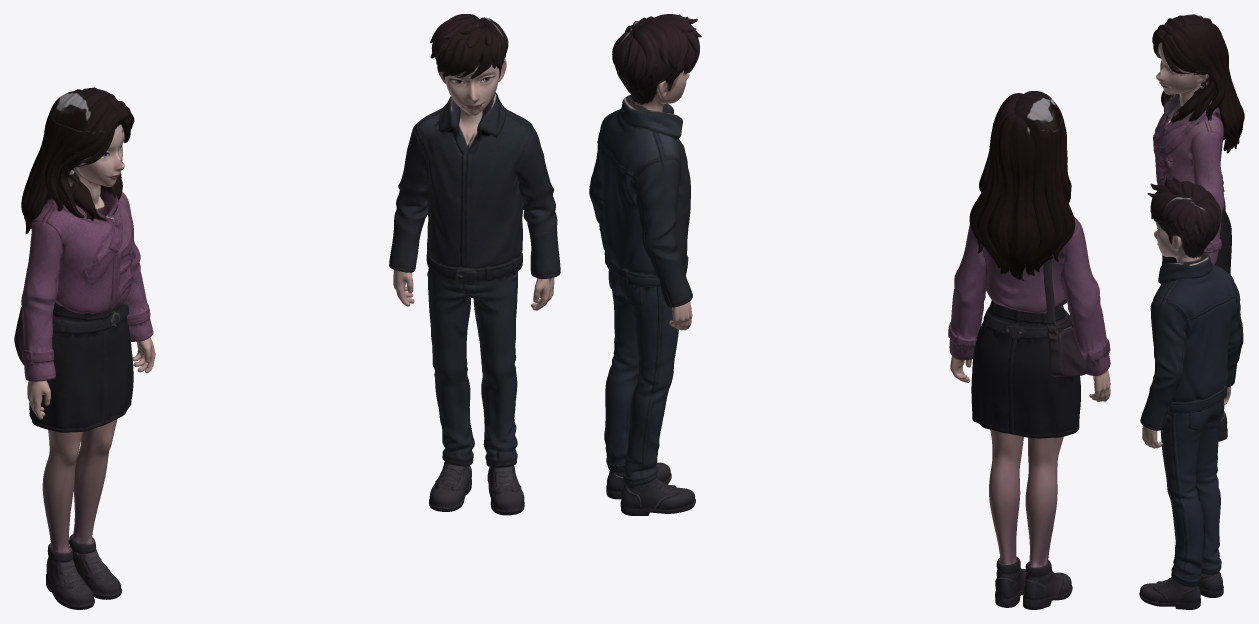
File: chapter3.glb
3 renders of one model, left to right at view 1: azimuth 30°, elevation 25°; view 2: azimuth 150°, elevation 25°; view 3: azimuth 270°, elevation 25°, orthographic. The views are drawn at different scales.
Visible parts, largest first — view 1: mesh_node; view 2: mesh_node; view 3: mesh_node.
Part boxes in pixels (x1=…): mesh_node: x1=14, y1=14, x2=560, y2=609; mesh_node: x1=589, y1=14, x2=1110, y2=609; mesh_node: x1=1139, y1=14, x2=1244, y2=609.
Size of the model in its own units: 2 by 1.83 by 0.415.
Materials: 1 (1 with a texture image).
